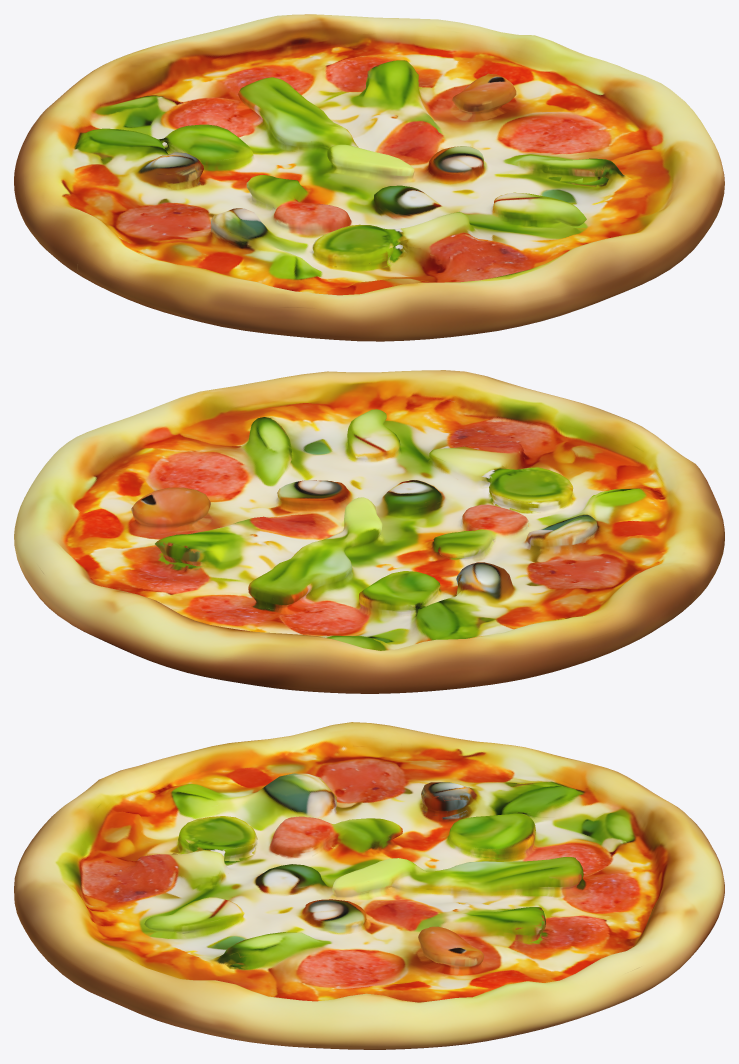
File: hamburguesaModelo.glb
The picture shows the model from 3 angles, top to bottom: view 1: azimuth 30°, elevation 25°; view 2: azimuth 150°, elevation 25°; view 3: azimuth 270°, elevation 25°; orthographic projection.
Parts seen in each view (by area): view 1: model; view 2: model; view 3: model.
Boxes of the visible parts, left/top/right/bottom form: model: left=14, top=14, right=724, bottom=341; model: left=14, top=370, right=724, bottom=693; model: left=14, top=722, right=724, bottom=1049.
Bounding box in the file's own units: 1.9 × 0.1639 × 1.9.
Materials: 1 (1 with a texture image).
